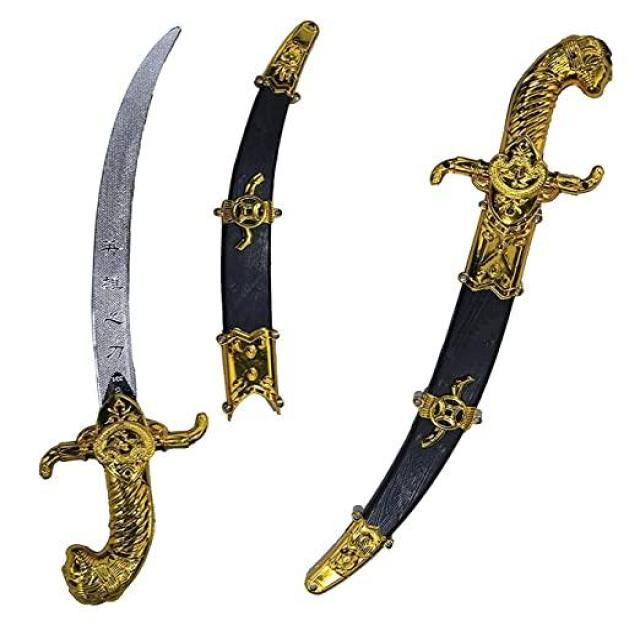weapon: (299, 29, 628, 609), (34, 19, 217, 618)
